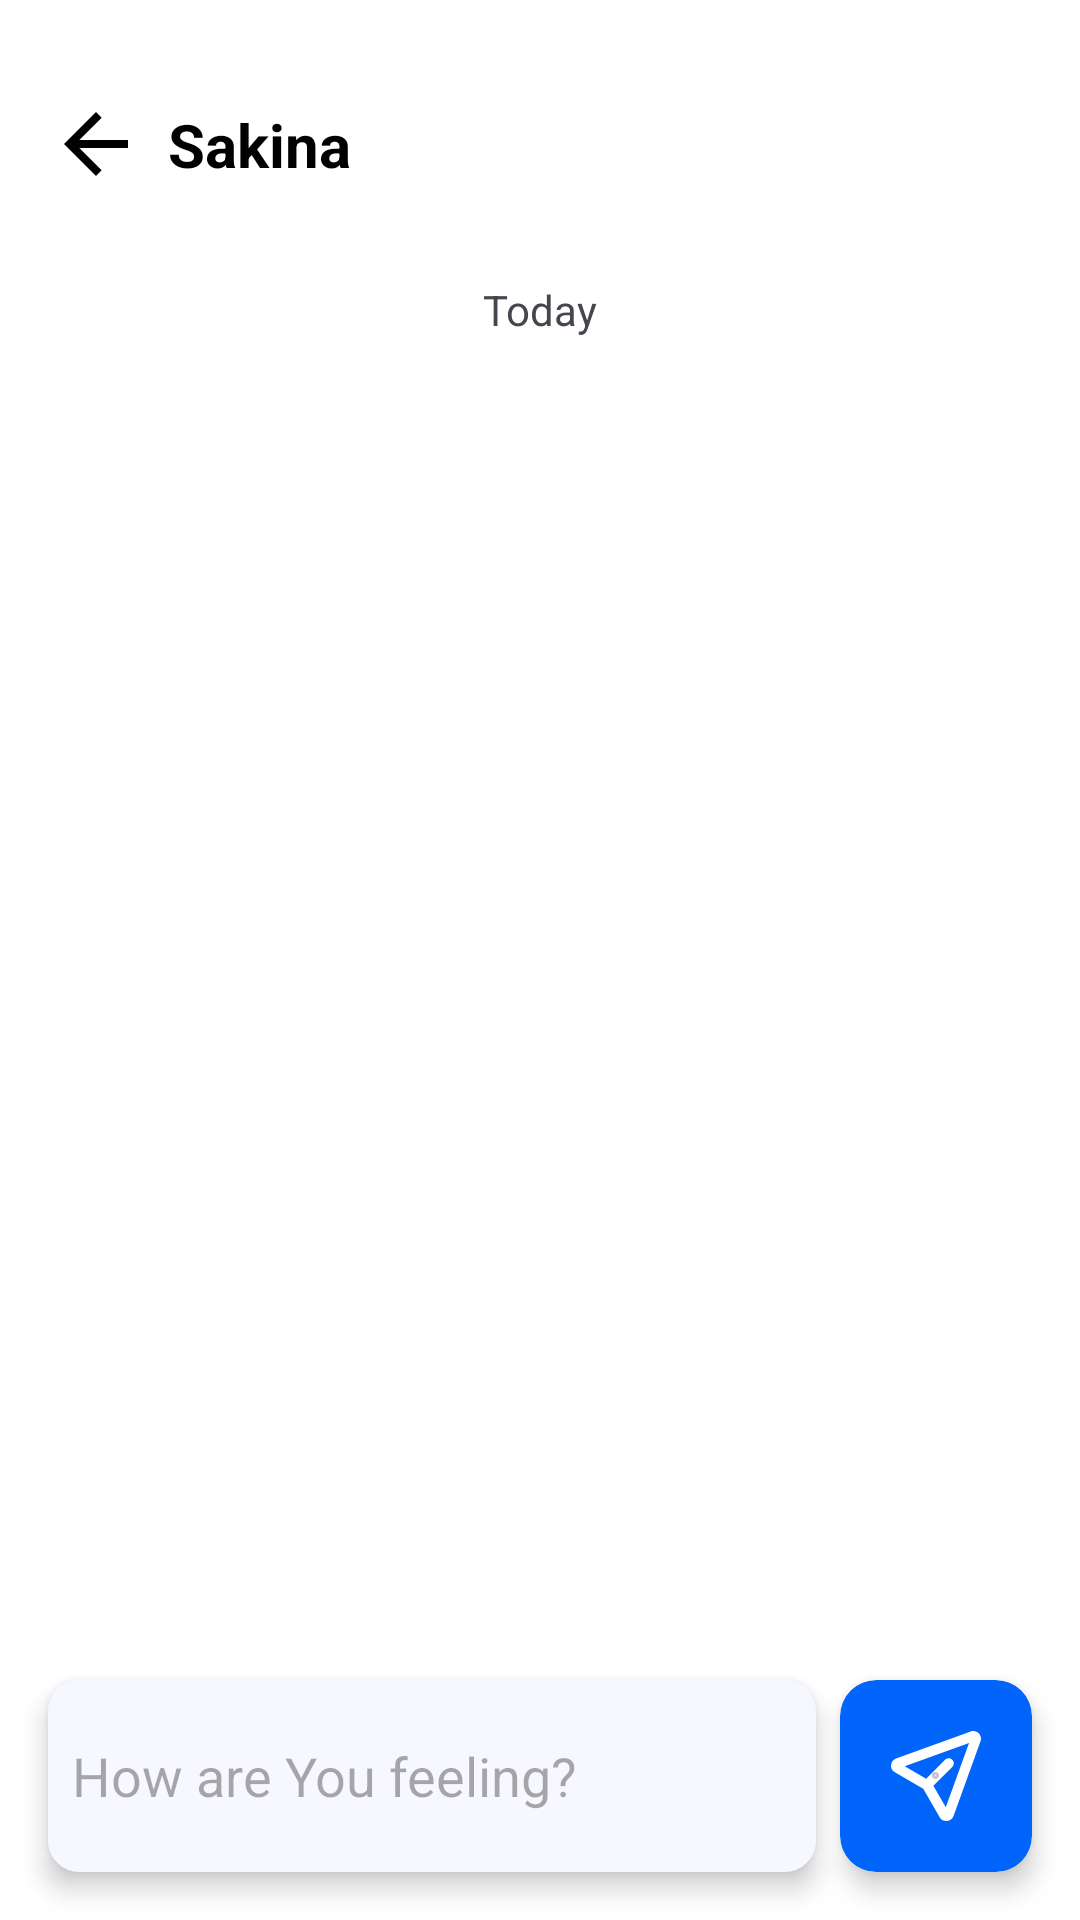

Named icons in this screenshot (1080 x 1920) and their centers, point (x, y):
left arrow: point (96, 144)
send: point (936, 1776)
